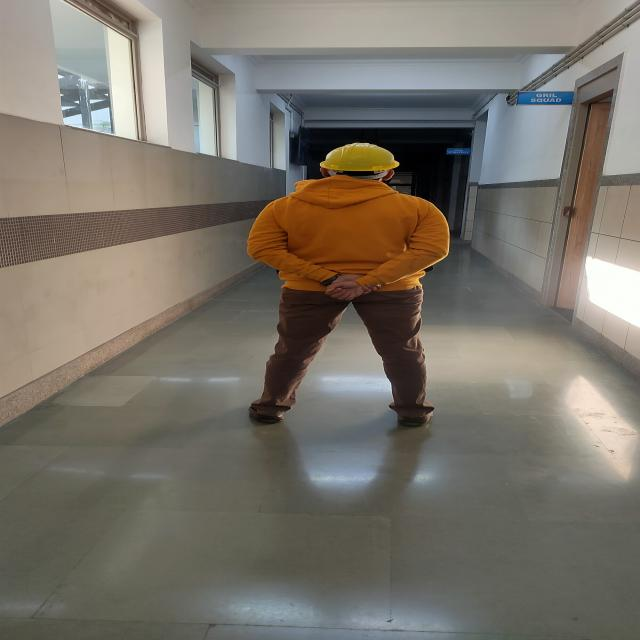no jacket: (244, 138, 456, 424)
